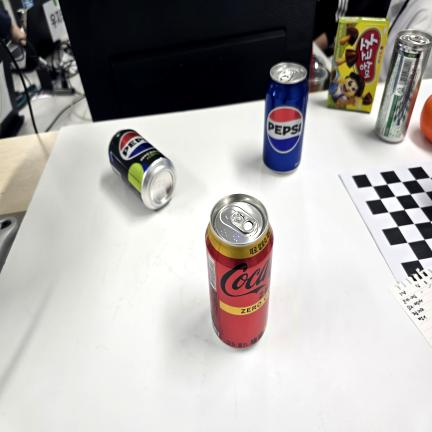can_coke_decaf: (204, 195, 274, 347)
can_pepsi: (264, 62, 308, 169)
can_pepsi_zero: (109, 131, 177, 209)
